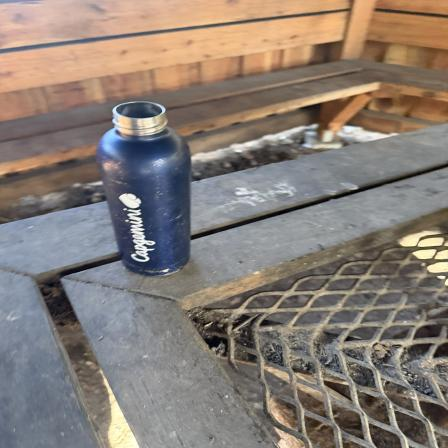blue_bottle: (95, 99, 195, 276)
